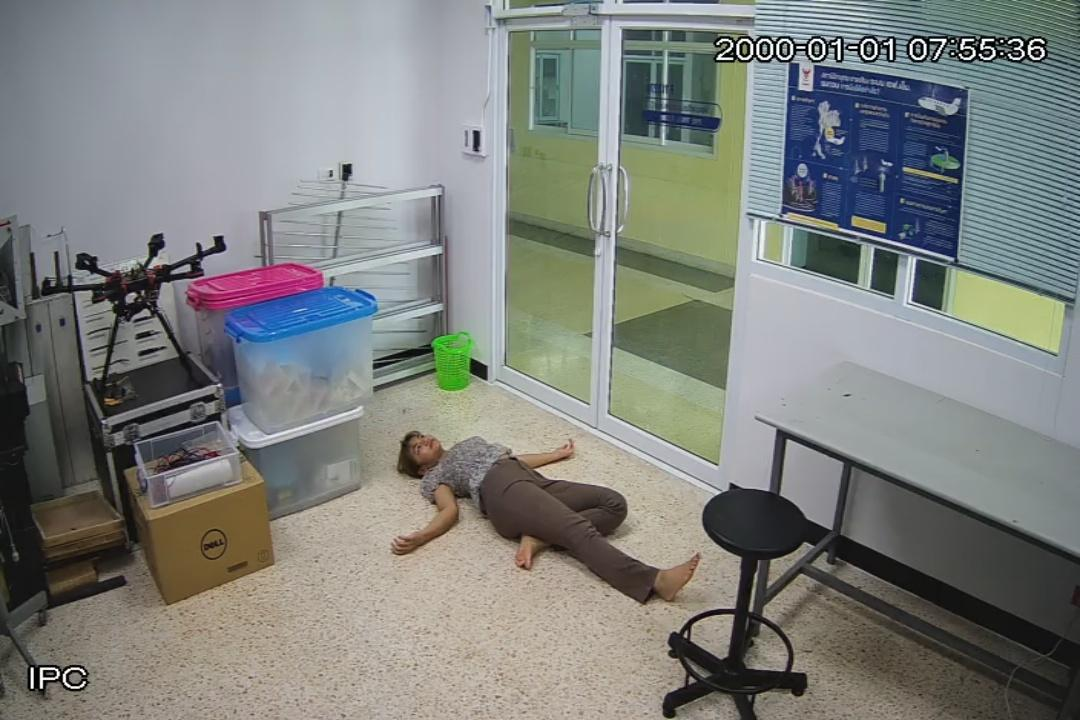fall: (396, 434, 704, 614)
